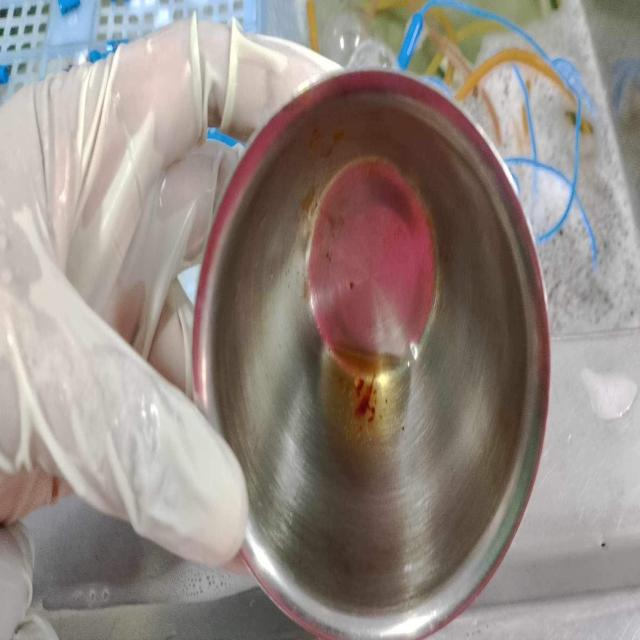General: (190, 66, 552, 636)
Infectious: (0, 12, 345, 569)
